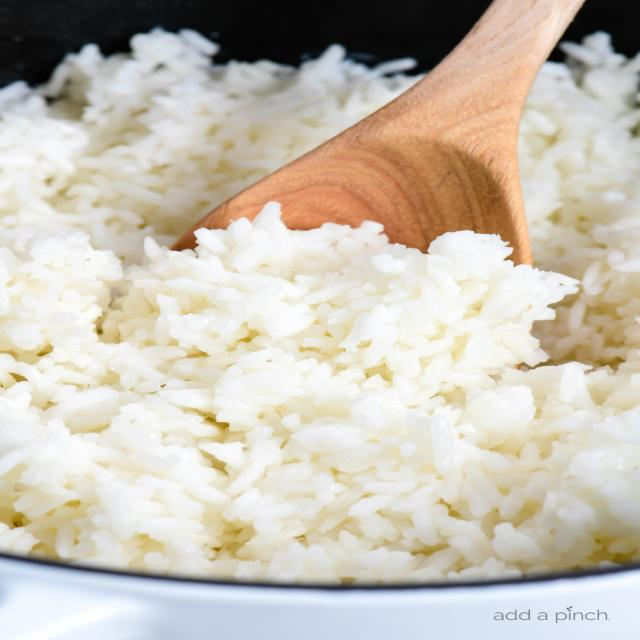Wet Waste: (9, 18, 640, 578)
